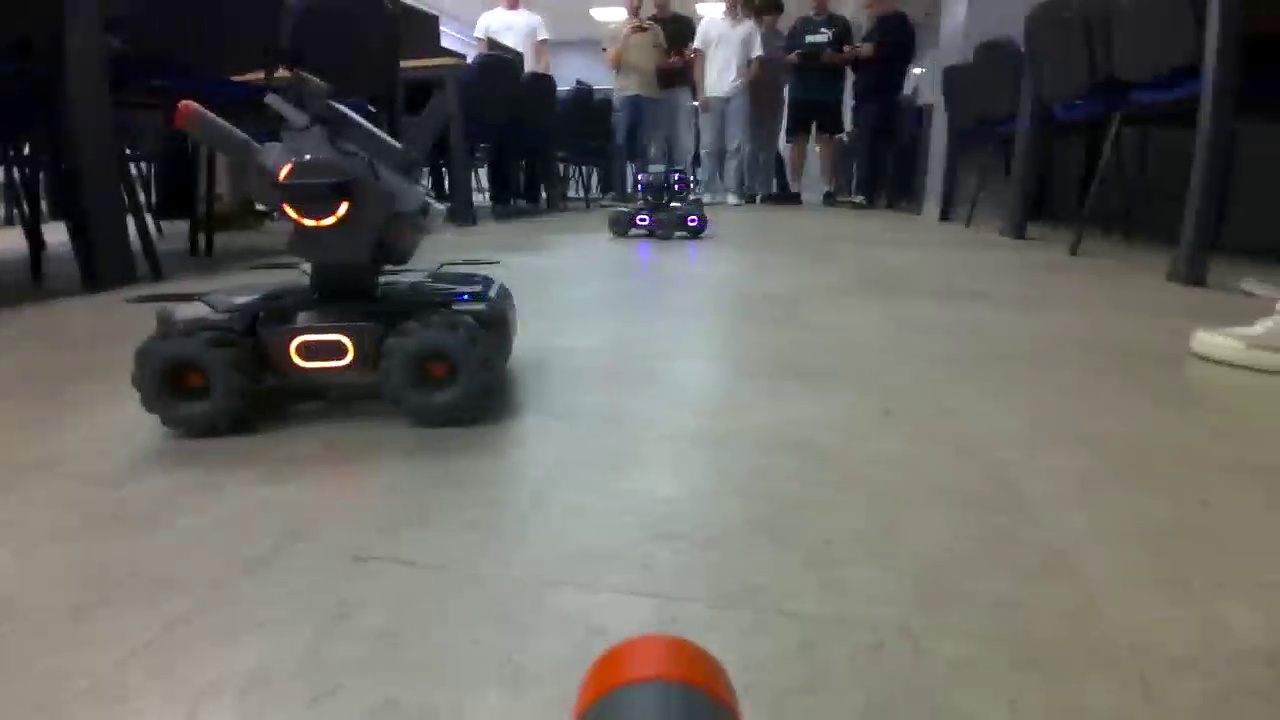robot: (130, 69, 519, 437), (607, 166, 709, 240)
